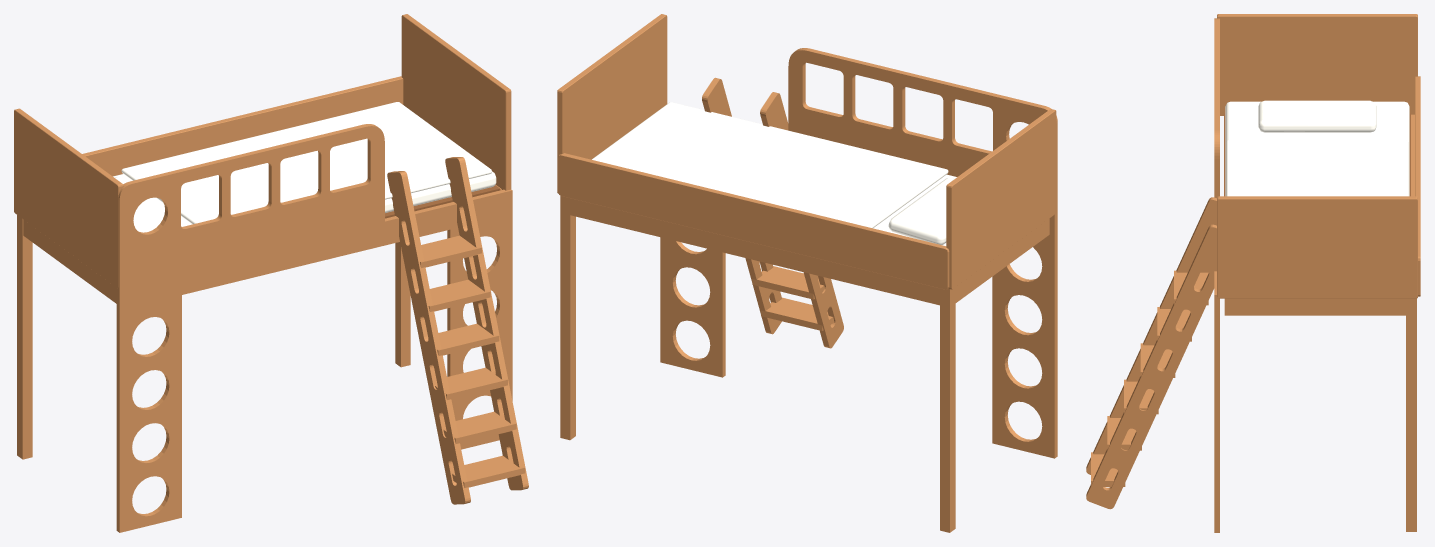
The model's file is loft-bed-circle-lite.glb.
3 views of the same model, side by side, from view 1: azimuth 30°, elevation 25°; view 2: azimuth 150°, elevation 25°; view 3: azimuth 270°, elevation 25° (orthographic). The views are drawn at different scales.
Visible parts, largest first — view 1: structure-assembly, ladder-assembly; view 2: structure-assembly, ladder-assembly; view 3: structure-assembly, ladder-assembly.
Boxes of the visible parts, bbox=[...] form: structure-assembly: bbox=[14, 14, 512, 532]; ladder-assembly: bbox=[387, 157, 528, 504]; structure-assembly: bbox=[557, 14, 1057, 532]; ladder-assembly: bbox=[702, 77, 843, 348]; structure-assembly: bbox=[1214, 14, 1420, 532]; ladder-assembly: bbox=[1086, 197, 1216, 509].
Size of the model in its own units: 2.4 by 2.02 by 1.83.
